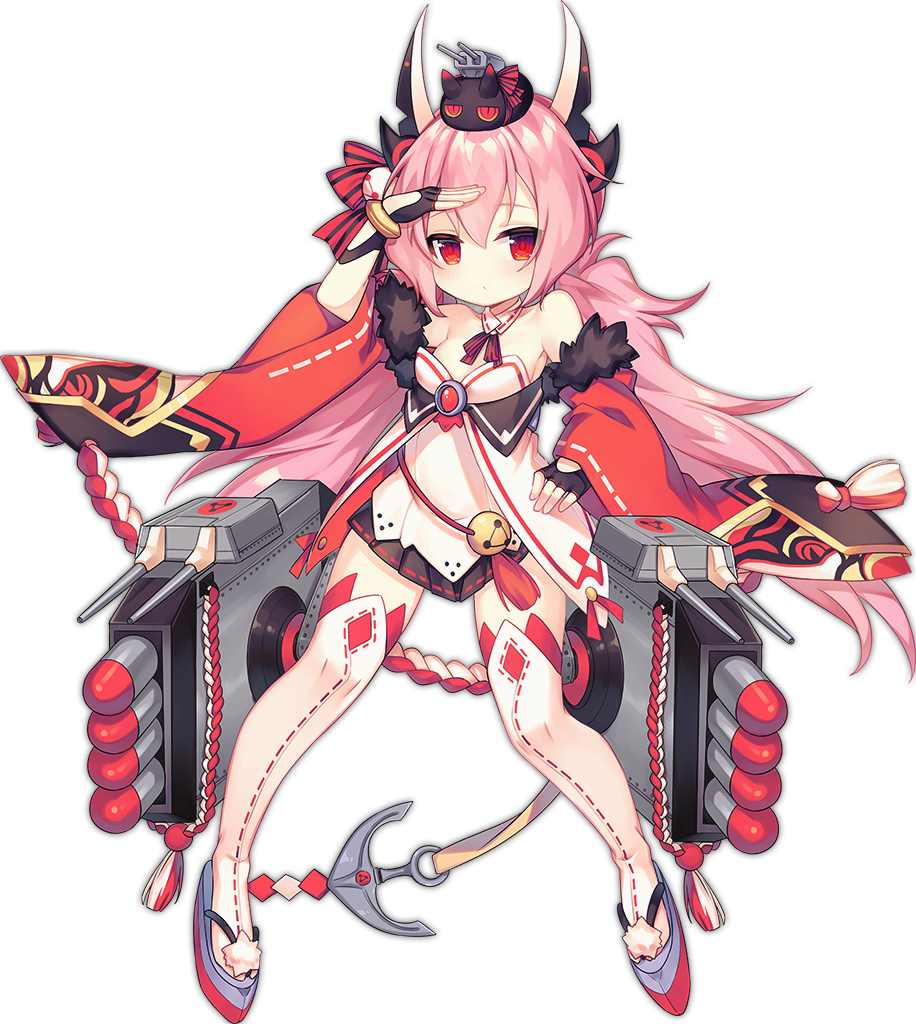person: (206, 80, 695, 901)
